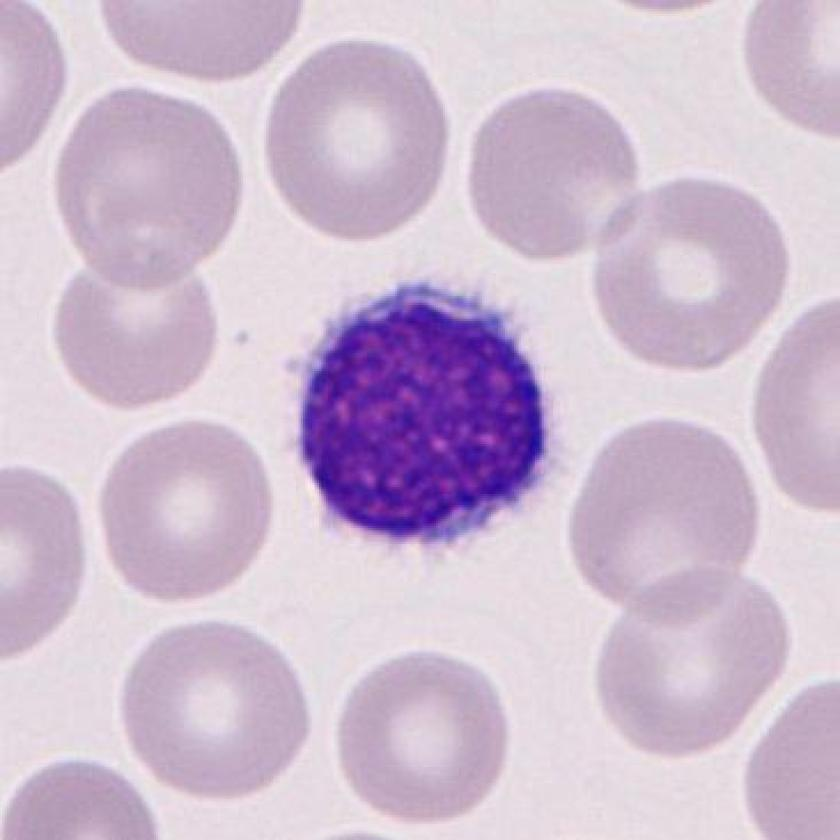lymphocyte: (277, 270, 571, 570)
